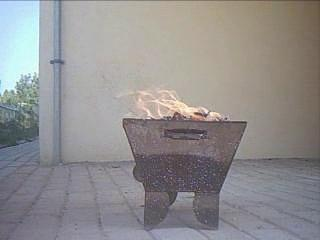fire: (107, 76, 224, 122)
